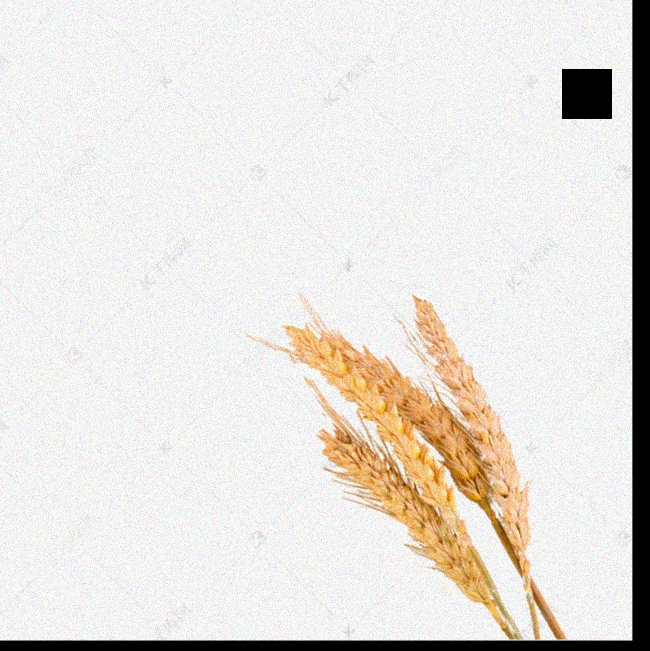wheat: (325, 425, 498, 623), (292, 319, 483, 496), (421, 288, 531, 547)
